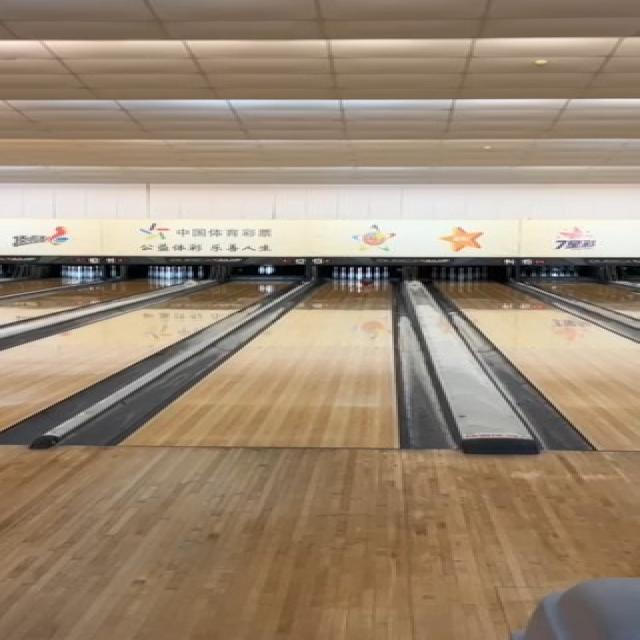alley: (124, 286, 399, 446)
balls: (361, 278, 376, 287)
bottle: (333, 266, 390, 280)
